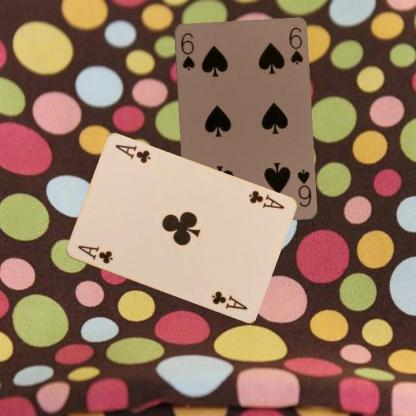6s: (294, 166, 313, 208), (178, 30, 196, 72)
Ac: (245, 188, 286, 211), (74, 243, 114, 265)
